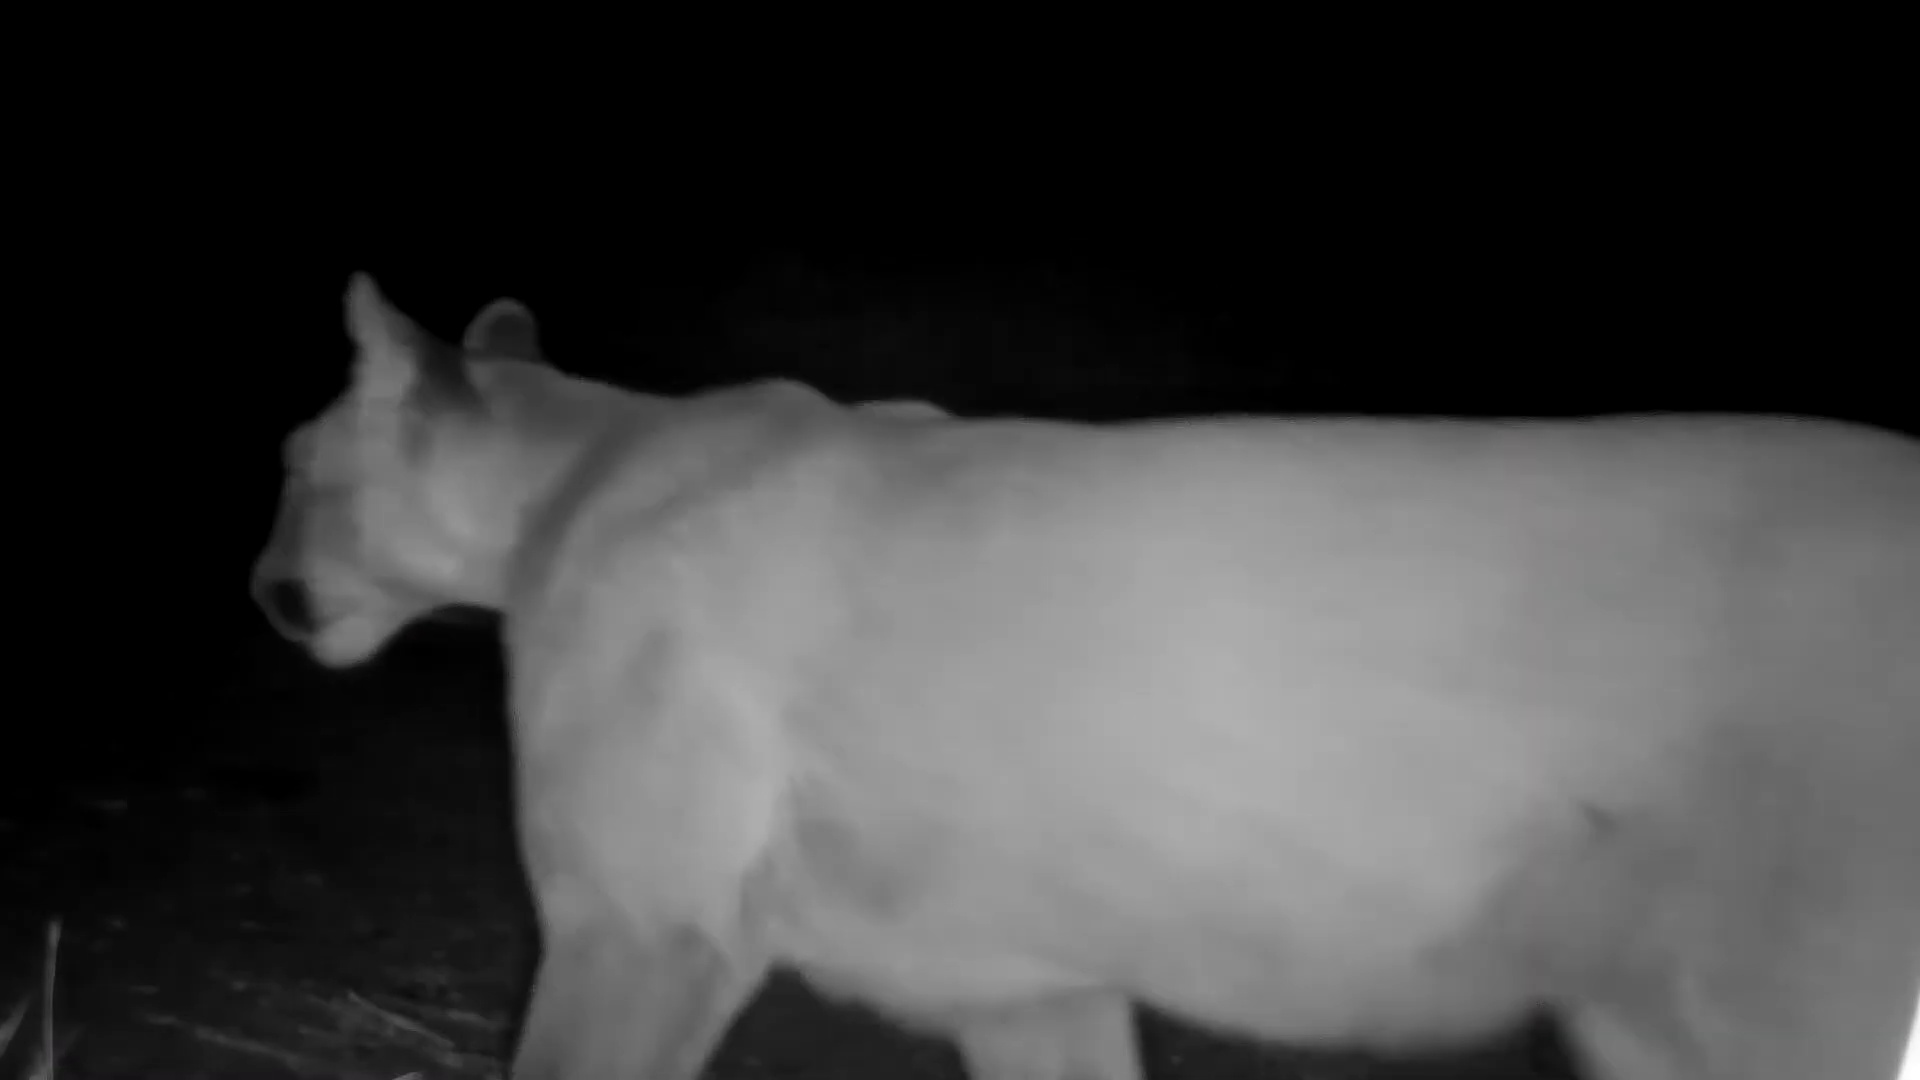Lion: (245, 258, 1920, 1080)
